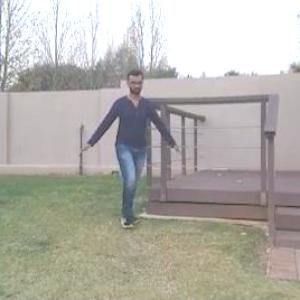land: (76, 57, 188, 250)
